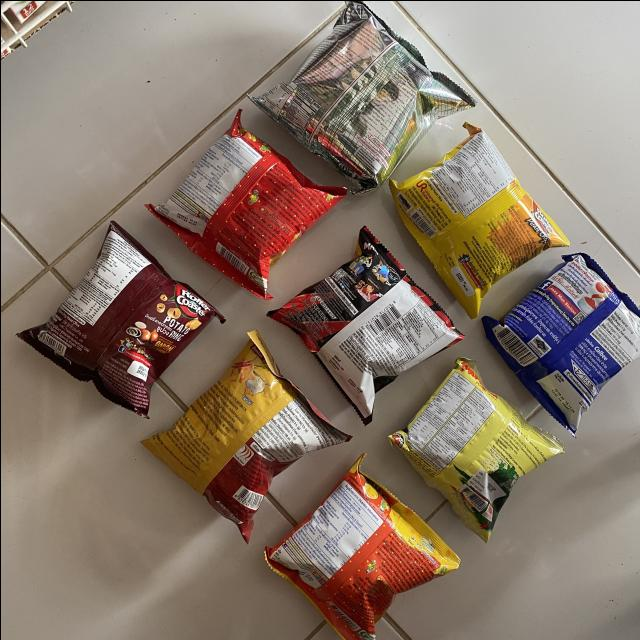plastik: (141, 330, 350, 540), (249, 0, 475, 192), (17, 221, 224, 417), (267, 226, 463, 423), (145, 108, 346, 299), (265, 453, 459, 640), (388, 121, 568, 317), (388, 357, 563, 541), (481, 252, 640, 433)
